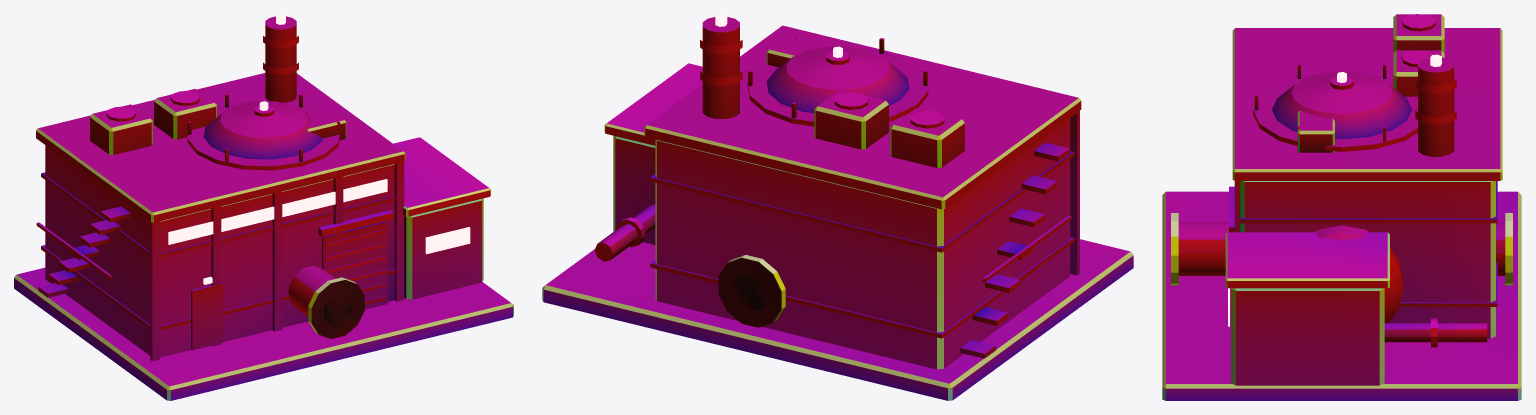
File: industrial-kit.glb
3 renders of one model, left to right at view 1: azimuth 30°, elevation 25°; view 2: azimuth 150°, elevation 25°; view 3: azimuth 270°, elevation 25°, orthographic. The views are drawn at different scales.
Visible parts, largest first — view 1: facility, tank_vertical_1, pipe_l_straight; view 2: facility, tank_vertical_1, pipe_l_elbow, pipe_s_elbow; view 3: facility, tank_vertical_1, pipe_l_straight, tank_horizontal, pipe_l_elbow.
Boxes of the visible parts, box(x1,y1,x2,y2) form: facility: box(14, 14, 513, 400); tank_vertical_1: box(187, 94, 340, 170); pipe_l_straight: box(288, 265, 364, 338); facility: box(542, 14, 1133, 400); tank_vertical_1: box(747, 38, 928, 126); pipe_l_elbow: box(718, 255, 785, 327); pipe_s_elbow: box(733, 274, 766, 310); facility: box(1162, 14, 1521, 400); tank_vertical_1: box(1253, 63, 1417, 151); pipe_l_straight: box(1171, 213, 1505, 285); tank_horizontal: box(1314, 225, 1403, 323); pipe_l_elbow: box(1496, 213, 1512, 285).
Size of the model in its own units: 2.75 by 1.8 by 2.1.
